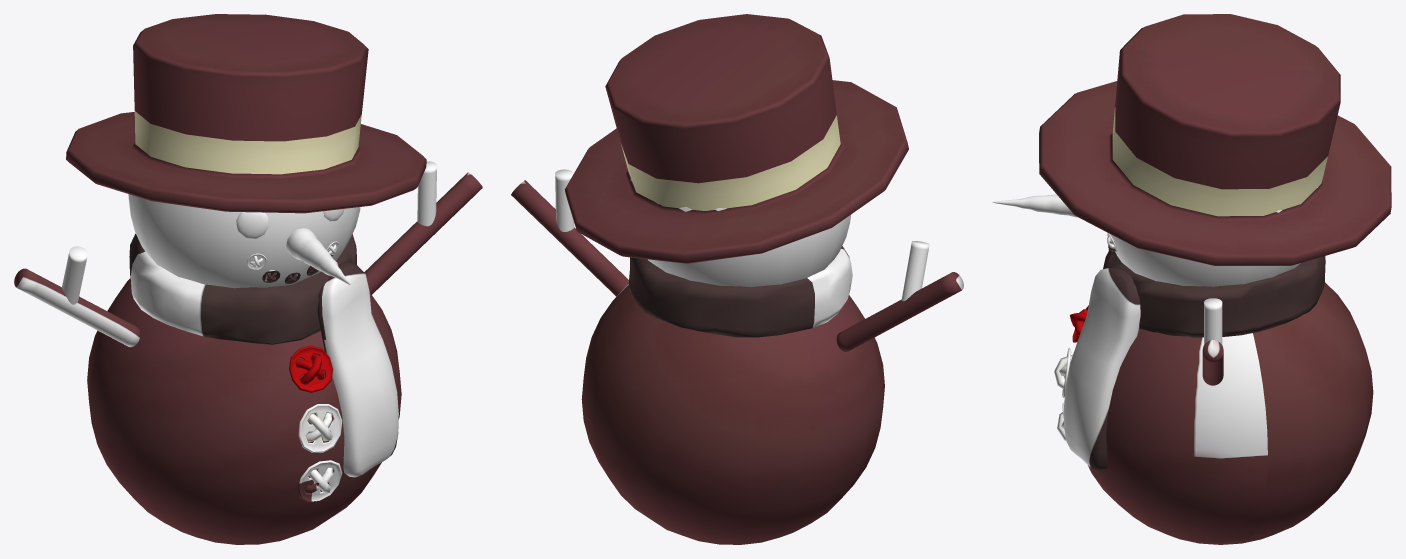
The picture shows the model from 3 angles, left to right: view 1: azimuth 30°, elevation 25°; view 2: azimuth 150°, elevation 25°; view 3: azimuth 270°, elevation 25°; orthographic projection. The views are drawn at different scales.
Visible parts, largest first — view 1: _gltfNode_1, _gltfNode_0; view 2: _gltfNode_1, _gltfNode_0; view 3: _gltfNode_1, _gltfNode_0.
Boxes of the visible parts, x1,y1,x2,y2 form: _gltfNode_1: (14, 161, 482, 544); _gltfNode_0: (66, 14, 426, 213); _gltfNode_1: (511, 169, 963, 544); _gltfNode_0: (565, 14, 908, 263); _gltfNode_1: (992, 187, 1373, 544); _gltfNode_0: (1039, 14, 1391, 265).
Size of the model in its own units: 4.62 by 4.74 by 3.56.
Materials: 1 (1 with a texture image).
